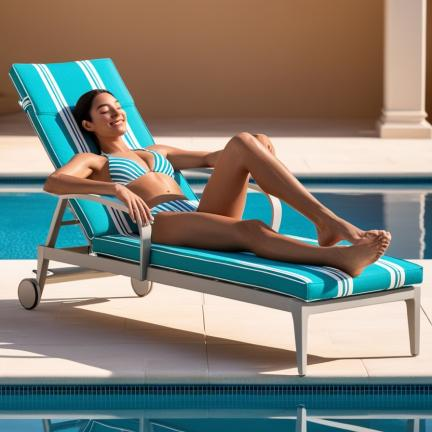guest on chair: (10, 59, 423, 375)
